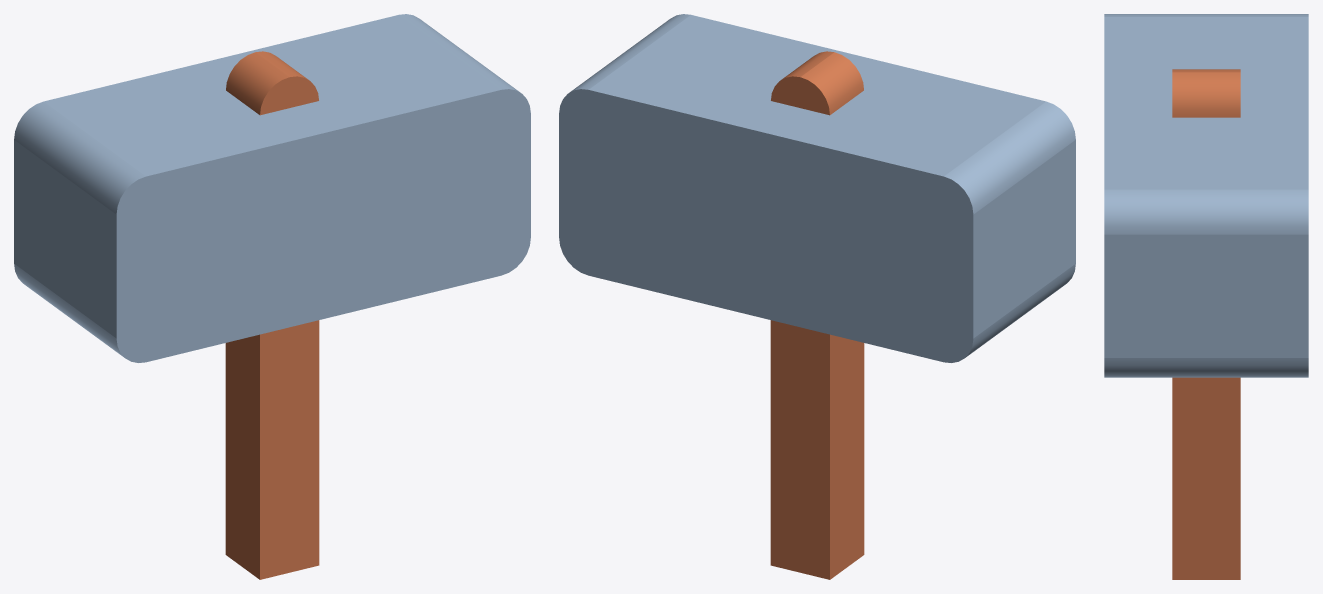
Rendered from hammer.glb.
The picture shows the model from 3 angles, left to right: view 1: azimuth 30°, elevation 25°; view 2: azimuth 150°, elevation 25°; view 3: azimuth 270°, elevation 25°; orthographic projection.
Parts seen in each view (by area): view 1: generated(Clone); view 2: generated(Clone); view 3: generated(Clone).
Boxes of the visible parts, <box> form: generated(Clone): <box>14,14,530,579</box>; generated(Clone): <box>559,14,1075,579</box>; generated(Clone): <box>1104,14,1308,579</box>.
Size of the model in its own units: 14 by 16 by 6.
1 material, 1 textured.
